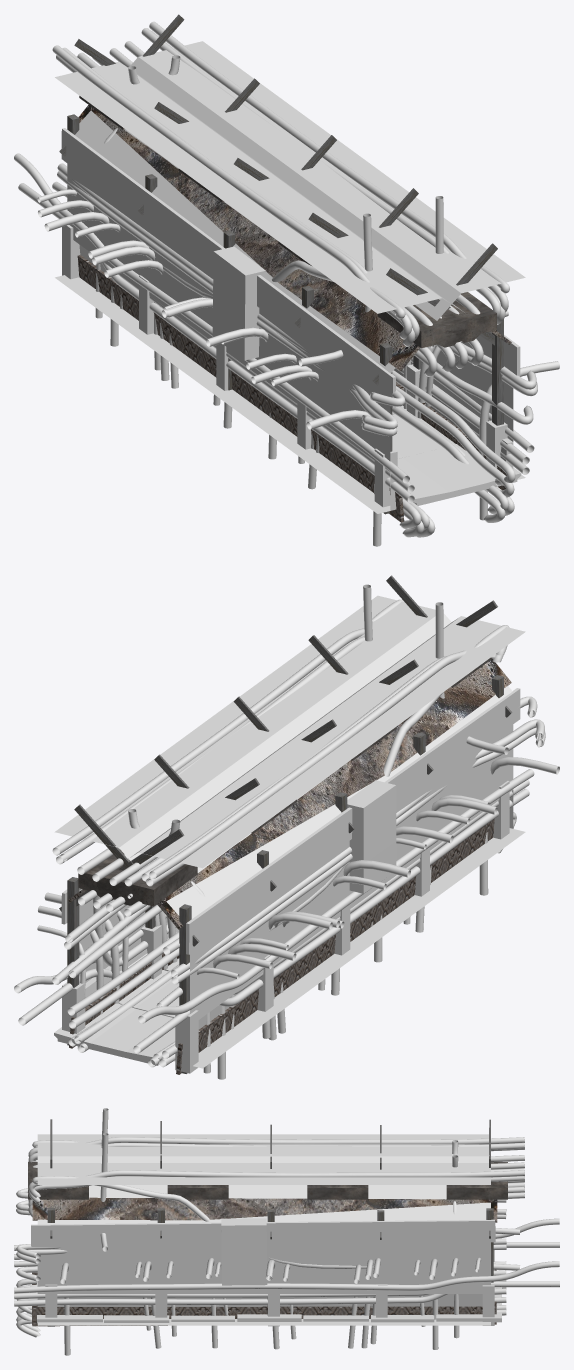
The model's file is Hallway Import test.fbx.
The picture shows the model from 3 angles, top to bottom: view 1: azimuth 30°, elevation 25°; view 2: azimuth 150°, elevation 25°; view 3: azimuth 270°, elevation 25°; orthographic projection. The views are drawn at different scales.
Parts seen in each view (by area): view 1: Plane, Mirrored side, Cube.001, Cube.003, Cube.002, Plane.002, Cube.005, BézierCurve.054, Cube, Cube.004, BézierCurve.026, Cube.012 (+25 smaller); view 2: Plane, Mirrored side, Cube.001, Cube.003, Cube.002, Plane.002, Cube, Cube.005, Cube.004, BézierCurve.054, BézierCurve, BézierCurve.026 (+25 smaller); view 3: Mirrored side, Plane, Cube.007, Cube.009, Cube.012, BézierCurve.030, Cube.008, Plane.002, Cube.011, BézierCurve.028, BézierCurve.026, BézierCurve.054 (+17 smaller).
Boxes of the visible parts, x1,y1,x2,y2 form: Plane: (67, 41, 525, 510); Mirrored side: (55, 61, 513, 513); Cube.001: (61, 128, 395, 407); Cube.003: (78, 105, 420, 371); Cube.002: (77, 255, 404, 522); Plane.002: (392, 405, 521, 505); Cube.005: (212, 246, 265, 360); BézierCurve.054: (52, 45, 411, 339); Cube: (59, 14, 497, 514); Cube.004: (62, 225, 397, 507); BézierCurve.026: (149, 21, 508, 312); Cube.012: (79, 96, 496, 348); Plane: (54, 595, 513, 1029); Mirrored side: (79, 616, 525, 1068); Cube.001: (186, 688, 520, 954); Cube.003: (158, 659, 511, 929); Cube.002: (176, 819, 494, 1074); Plane.002: (54, 958, 179, 1065); Cube: (74, 575, 512, 1073); Cube.005: (347, 780, 396, 893); Cube.004: (175, 781, 509, 1073); BézierCurve.054: (149, 645, 507, 878); BézierCurve: (133, 788, 529, 1053); BézierCurve.026: (52, 628, 364, 855); Mirrored side: (37, 1134, 490, 1320); Plane: (37, 1163, 490, 1325); Cube.007: (31, 1219, 495, 1246); Cube.009: (32, 1197, 497, 1222); Cube.012: (28, 1162, 507, 1199); BézierCurve.030: (14, 1261, 559, 1293); Cube.008: (32, 1301, 496, 1326); Plane.002: (37, 1282, 501, 1323); Cube.011: (221, 1218, 267, 1285); BézierCurve.028: (14, 1281, 559, 1306); BézierCurve.026: (28, 1170, 524, 1197); BézierCurve.054: (28, 1137, 524, 1161).
Size of the model in its own units: 660 by 772 by 1783.
Materials: 7 (3 with a texture image).
